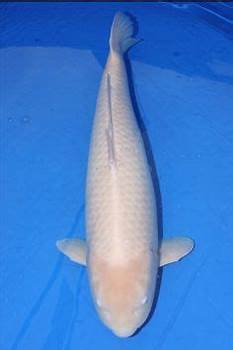white: (56, 9, 194, 339)
